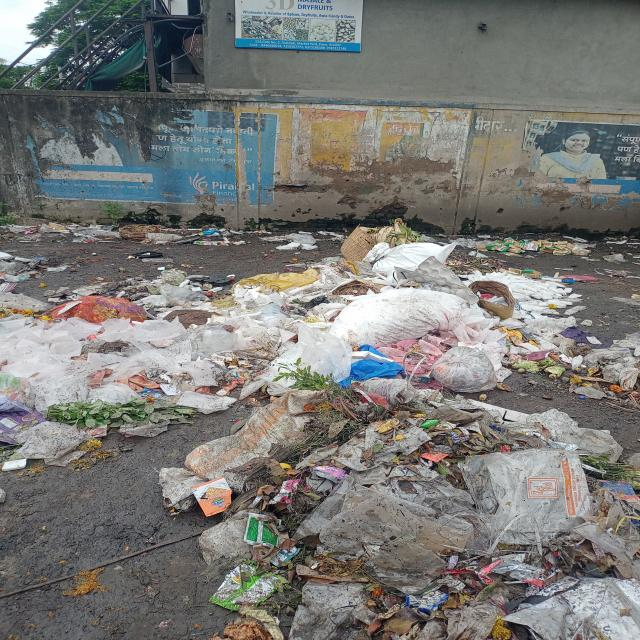garbage: (208, 229, 638, 640), (5, 276, 214, 454), (42, 218, 238, 246)
